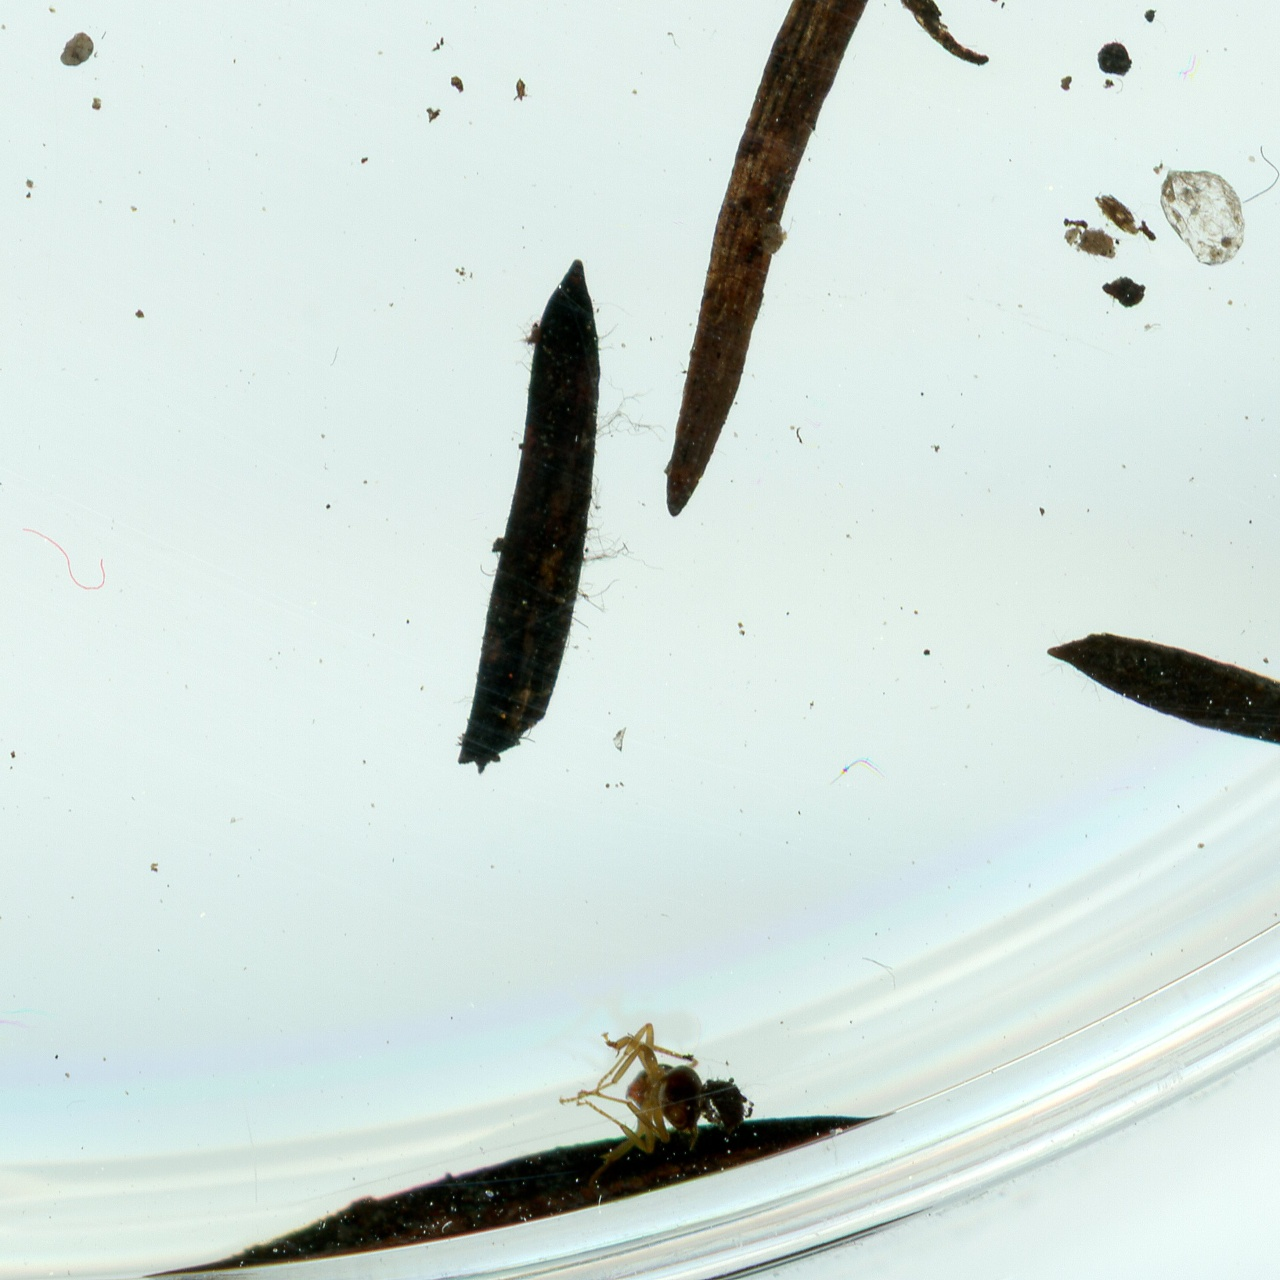arthropod: (554, 1017, 713, 1199)
